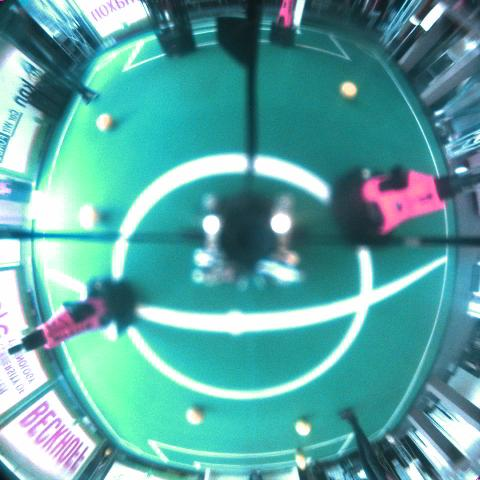ball: (79, 205, 99, 229), (187, 406, 205, 424), (339, 82, 357, 99), (96, 114, 113, 130), (295, 419, 312, 435), (295, 453, 306, 470), (386, 435, 396, 444), (105, 448, 112, 455)
goal: (293, 0, 304, 33), (292, 466, 299, 479), (204, 469, 210, 479)
person: (0, 7, 102, 106), (337, 409, 399, 479)
robot: (330, 165, 479, 249), (8, 275, 135, 355), (140, 0, 196, 57), (269, 1, 298, 47), (0, 181, 32, 205), (249, 471, 262, 479)
